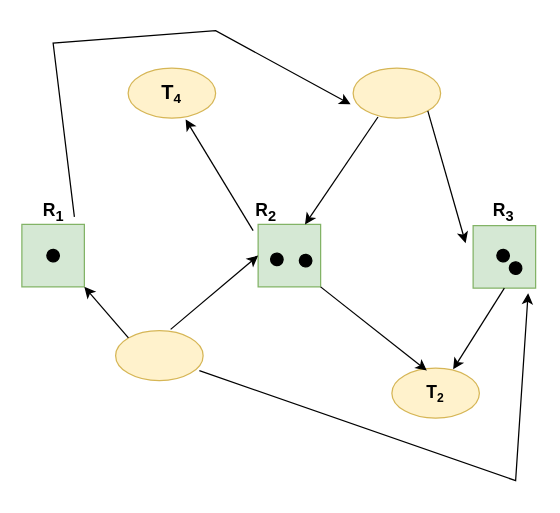
Some shapes in this 560 by 513 pixel diagram are drawn without their labels. Here are the shapes that lost their labels. From the top down, the centre of each, then its label:
the point at 396,92: T 1
the point at 158,355: T 3
